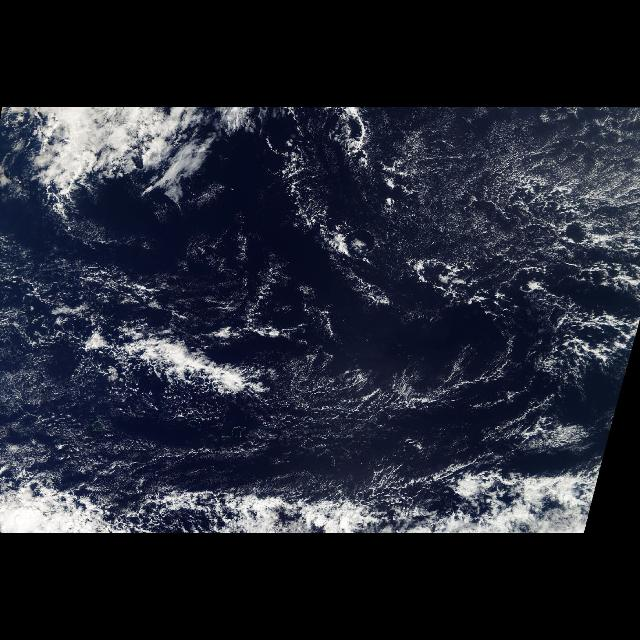Fish: (55, 286, 295, 426)
Gravel: (308, 126, 638, 370)
Sugar: (369, 113, 639, 325)
